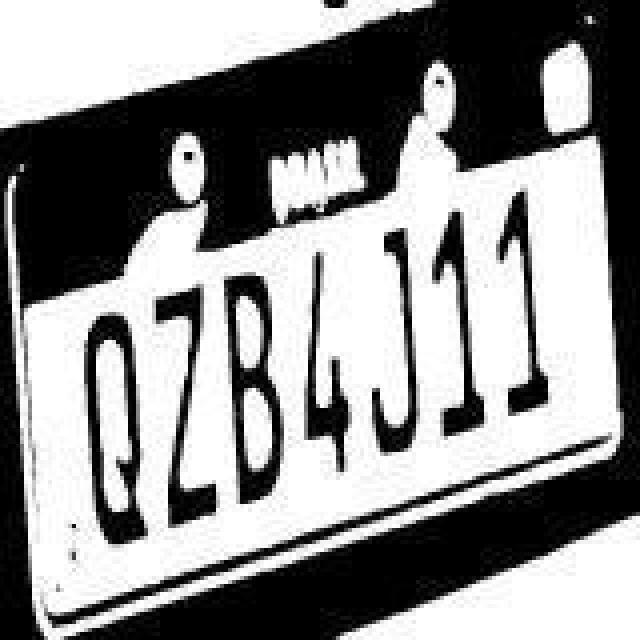1: (486, 176, 570, 424), (420, 194, 492, 446)
4: (294, 234, 354, 502)
B: (218, 268, 294, 516)
J: (360, 224, 424, 472)
Q: (70, 302, 154, 554)
Z: (148, 284, 220, 540)
